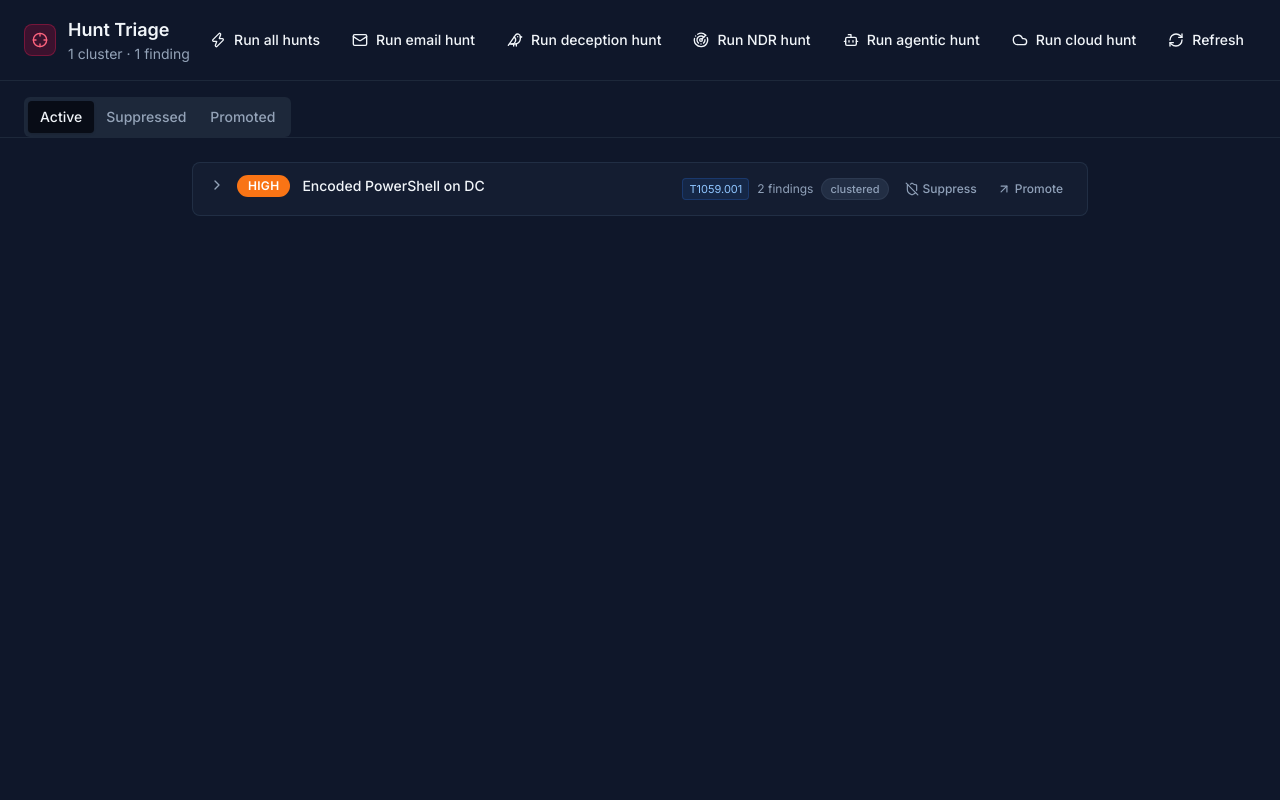
HuntTriagePage › suppress dialog keeps Submit disabled when rationale is empty
Check: the element with test id "hunt-cluster-card" is shown, box [192,162,1088,216]
Note: Expand cluster to see findings
Click the button with test id "hunt-cluster-expand" at (217, 185), box [209,177,225,193]
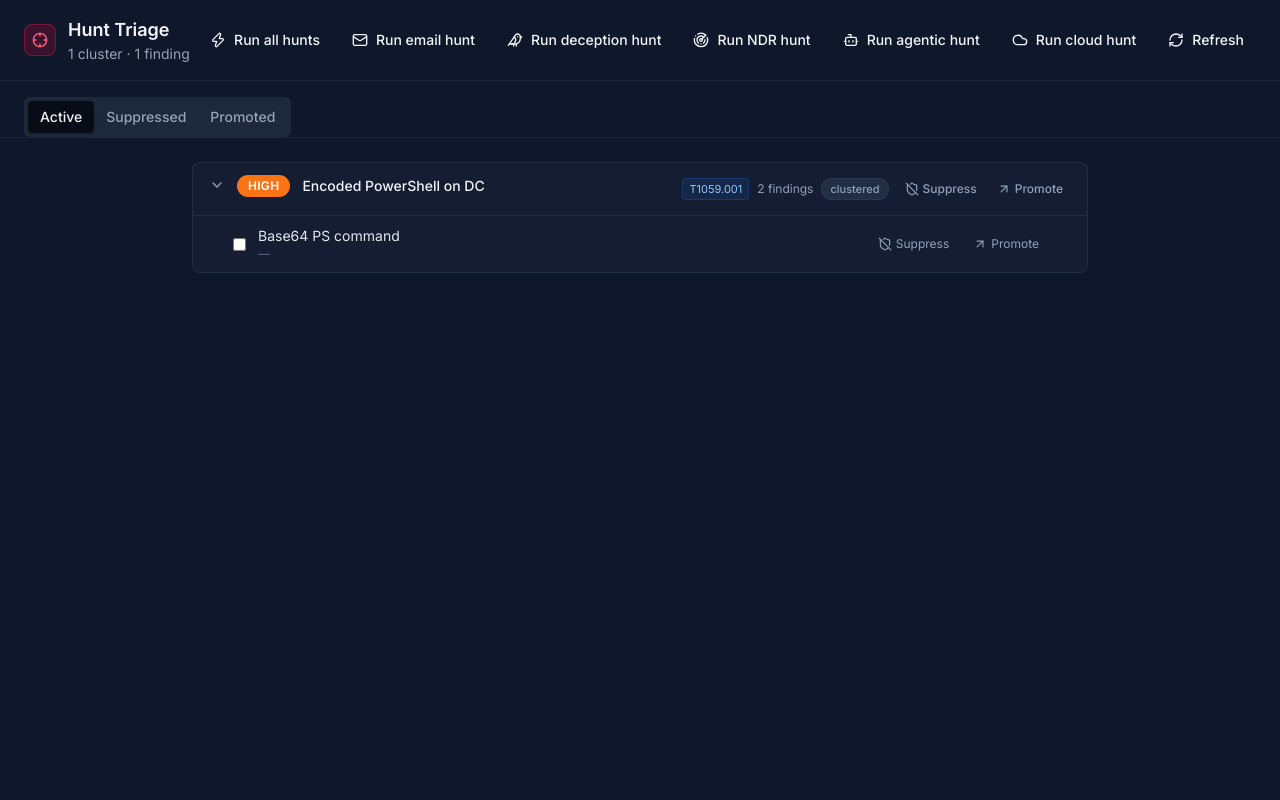
Check: the button with test id "hunt-finding-suppress" is shown
Click the button with test id "hunt-finding-suppress" at (914, 244), box [870,232,957,256]
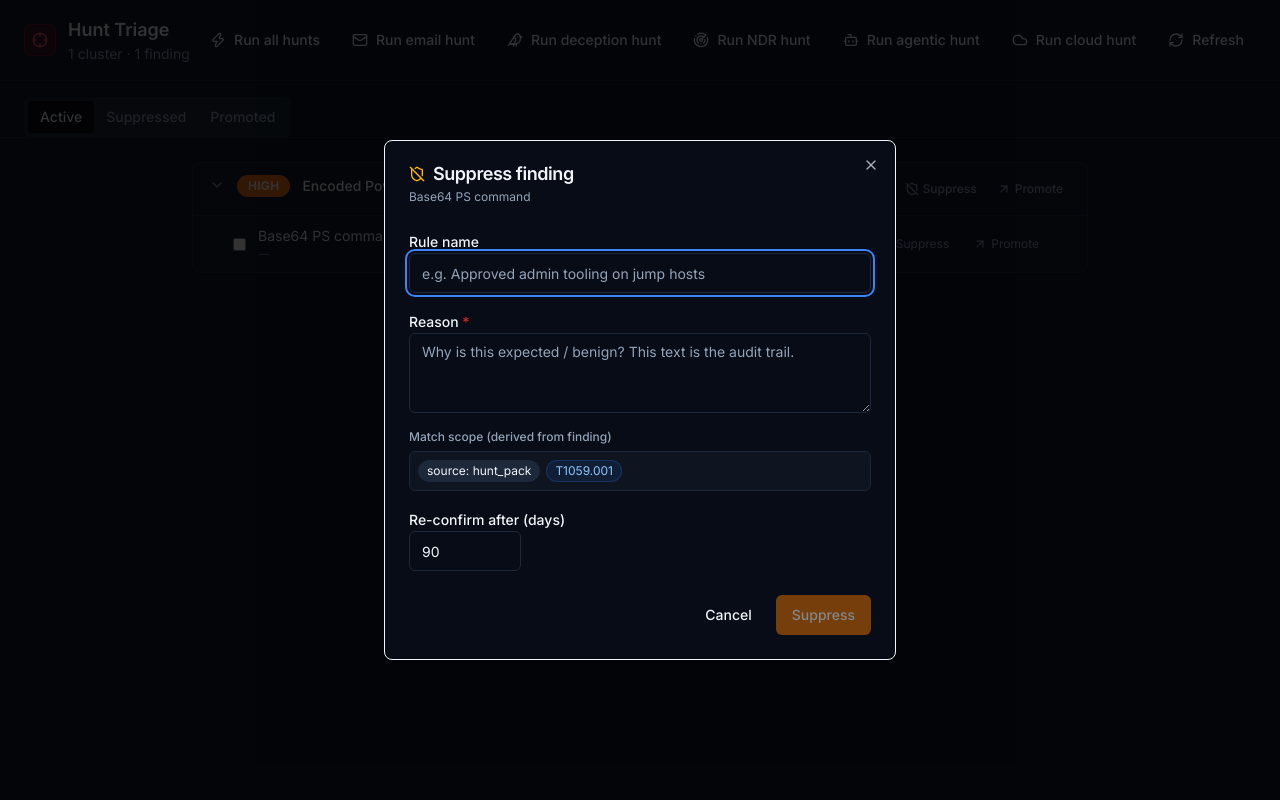
Check: the dialog with test id "hunt-suppress-modal" is shown, box [384,140,896,660]
Check: the button with test id "hunt-suppress-submit" is disabled, box [776,595,871,635]
Note: Fill name only — still disabled
Type "Test rule" into the field with test id "hunt-suppress-name" at (640, 273), box [409,253,871,293]
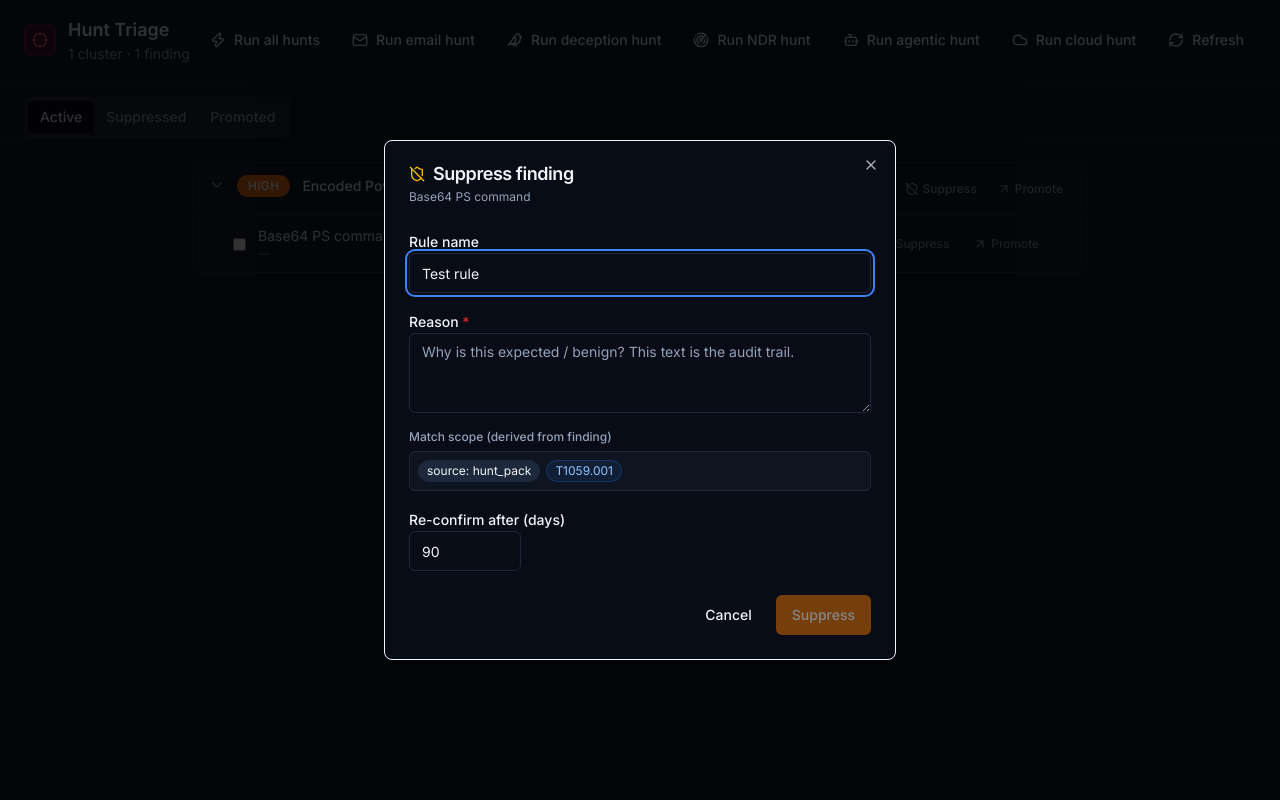
Check: the button with test id "hunt-suppress-submit" is disabled, box [776,595,871,635]
Note: Fill reason — now enabled
Type "Approved activity" into the text box with test id "hunt-suppress-reason" at (640, 373), box [409,333,871,413]
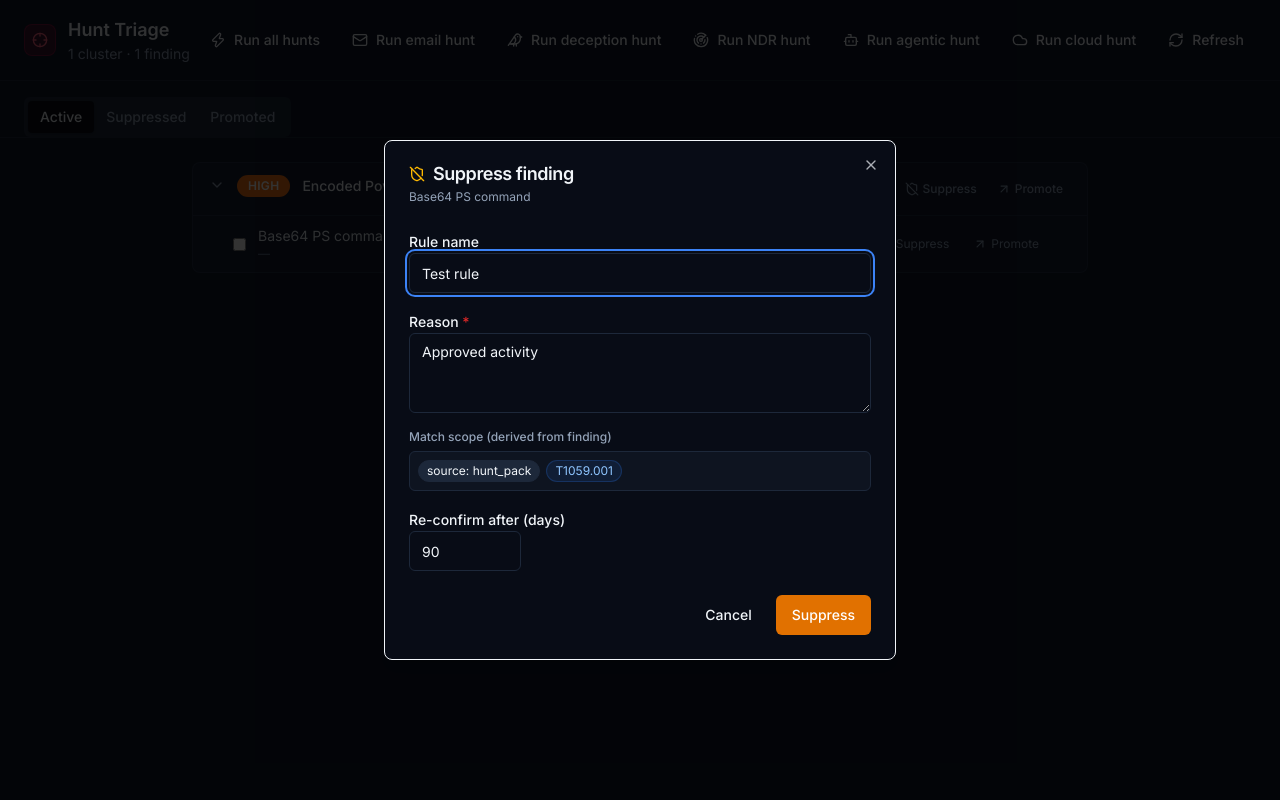
Check: the button with test id "hunt-suppress-submit" is enabled, box [776,595,871,635]
